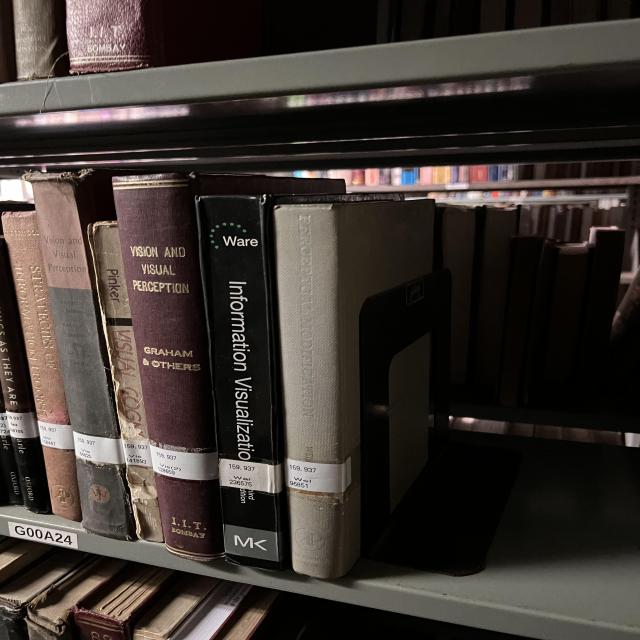Book: (112, 174, 345, 561), (273, 200, 435, 579), (23, 170, 128, 539), (197, 195, 288, 570), (2, 211, 82, 521), (88, 221, 163, 541), (0, 250, 52, 512)
Label: (150, 445, 218, 481), (285, 458, 352, 492), (218, 459, 282, 494), (73, 431, 125, 464), (38, 420, 75, 450), (7, 411, 38, 439), (122, 440, 152, 468)
